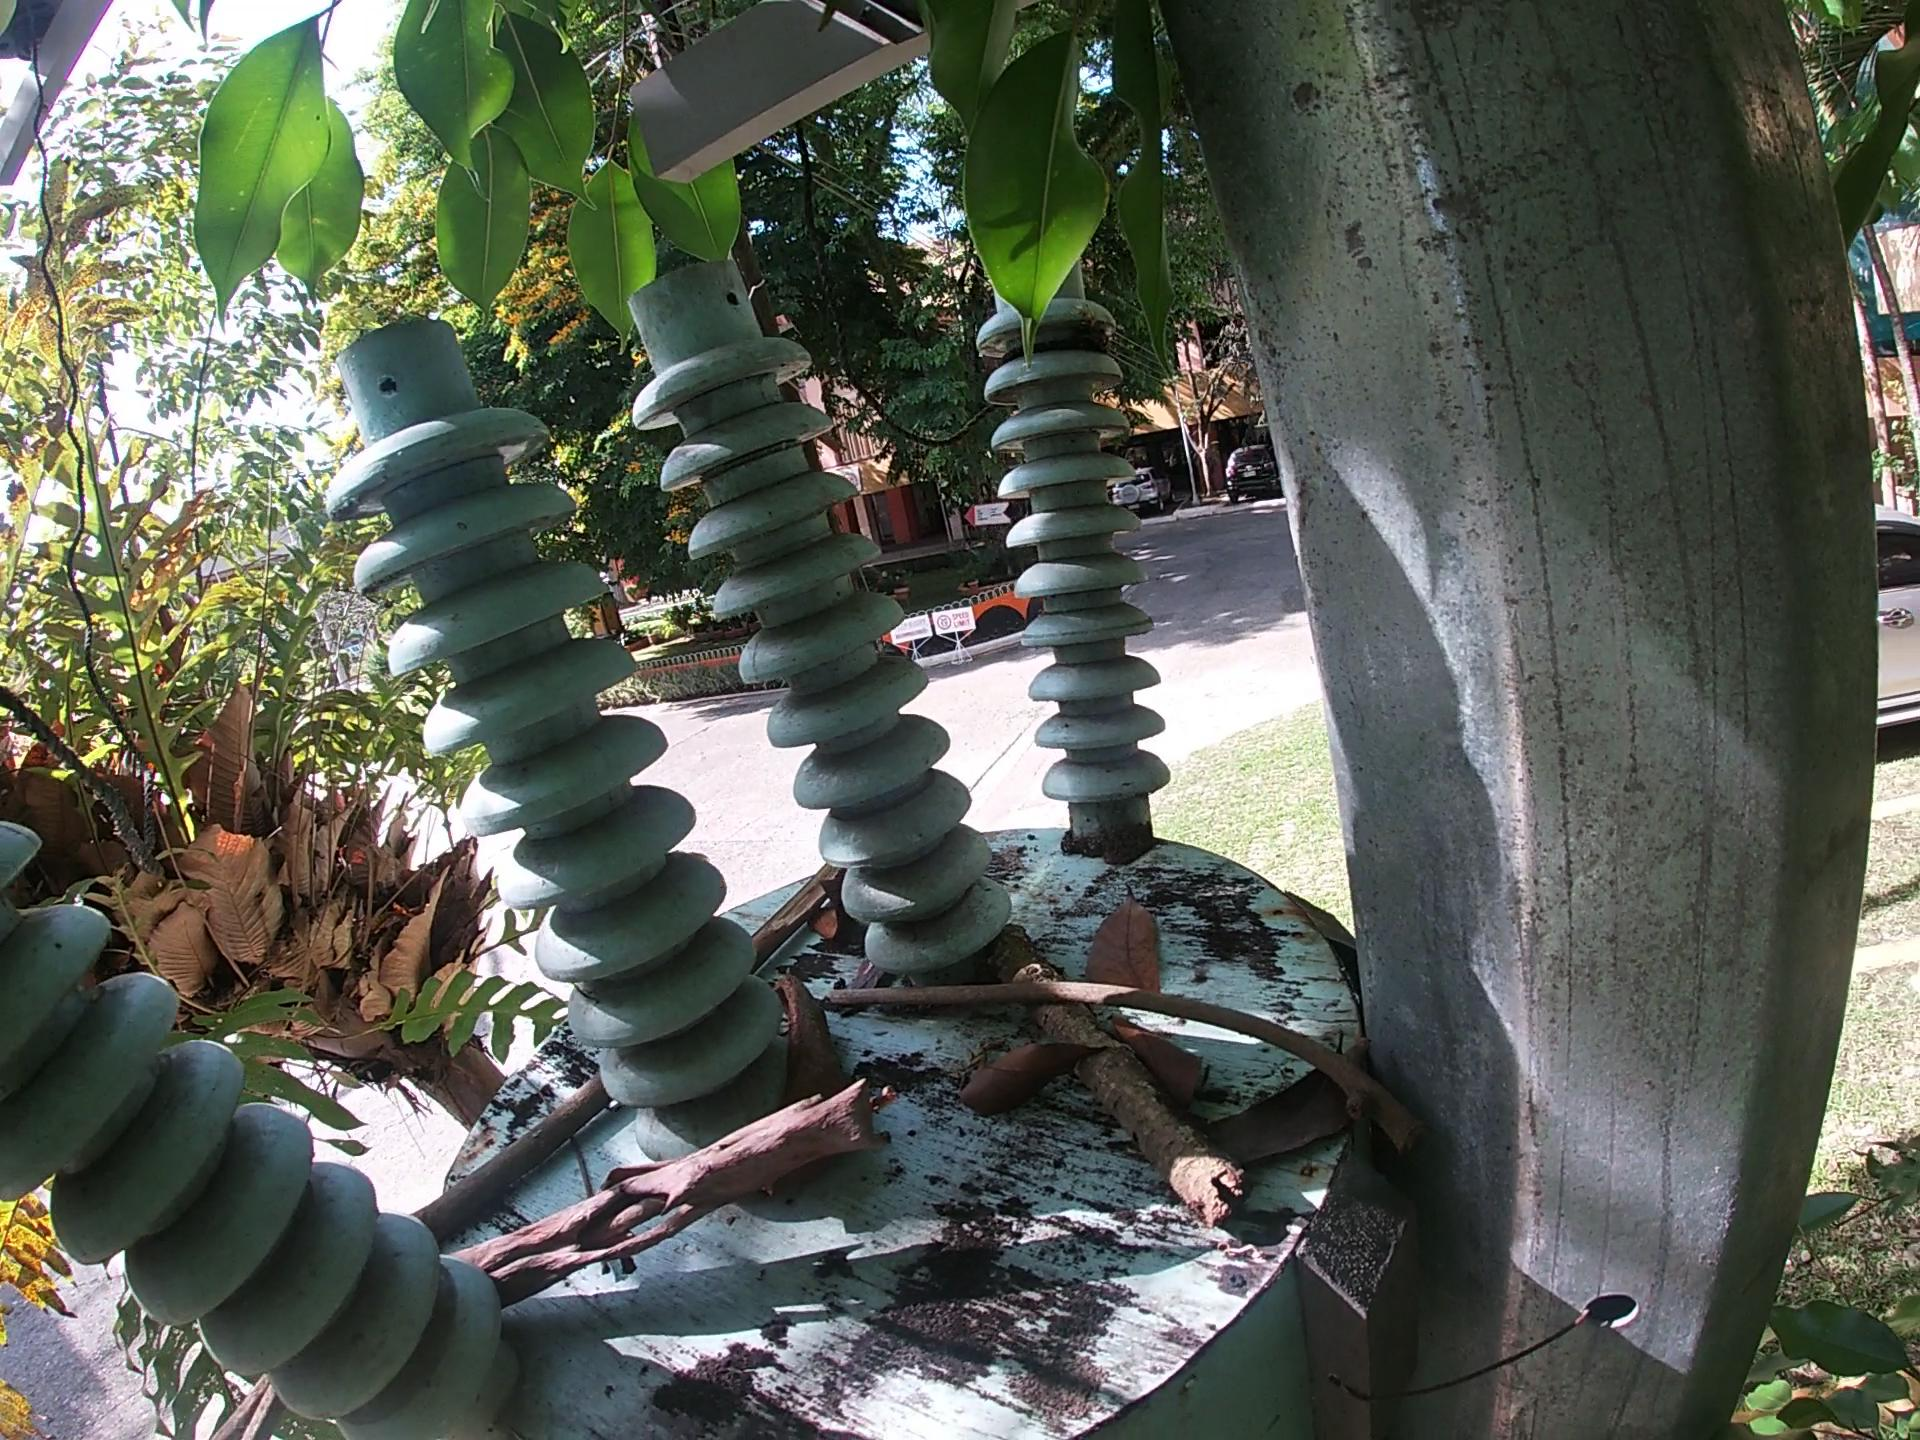leaf: (1188, 1033, 1364, 1175), (948, 1033, 1114, 1122), (1078, 880, 1175, 1001), (1108, 1010, 1215, 1113)
mahogany fruit: (766, 964, 856, 1207), (797, 859, 869, 947)
tree branch: (818, 979, 1438, 1165), (446, 1072, 906, 1310), (981, 917, 1259, 1236), (405, 1066, 615, 1246), (748, 859, 844, 976)
